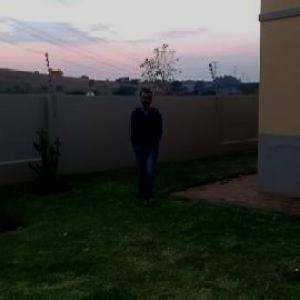follow: (131, 86, 170, 201)
